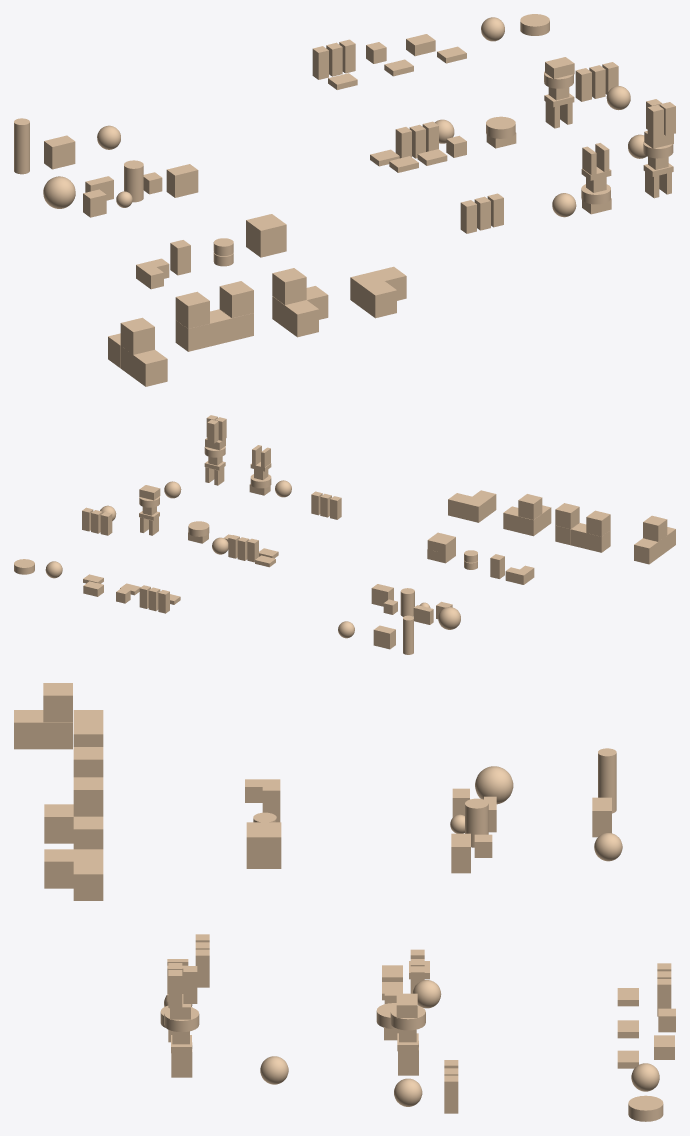
3 renders of one model, top to bottom at view 1: azimuth 30°, elevation 25°; view 2: azimuth 150°, elevation 25°; view 3: azimuth 270°, elevation 25°, orthographic. The views are drawn at different scales.
Parts seen in each view (by area): view 1: pCube23, pCube17, pCube18, pCube22, pCube27, pCube29, pCube25, pCube2, pCube1, pCylinder1, pSphere2, pCube19 (+8 smaller); view 2: pCube23, pCube18, pCube22, pCube30, pCube27, pCube15, pCube1, pSphere2, pCylinder1, pCube19, pCube24, pCube2 (+2 smaller); view 3: pCube27, pCube28, pCube17, pCube18, pCube25, pCube29, pSphere2, pCube26, pCylinder1, pCube23, pCylinder2, pCube16 (+8 smaller).
Part boxes in pixels (left/top/right/bottom): pCube23: left=219, top=281, right=253, bottom=318; pCube17: left=133, top=350, right=167, bottom=386; pCube18: left=120, top=317, right=154, bottom=354; pCube22: left=175, top=291, right=209, bottom=328; pCube27: left=272, top=268, right=306, bottom=304; pCube29: left=362, top=281, right=396, bottom=318; pCube25: left=285, top=300, right=318, bottom=337; pCube2: left=166, top=164, right=198, bottom=197; pCube1: left=44, top=135, right=75, bottom=169; pCylinder1: left=14, top=118, right=29, bottom=174; pSphere2: left=43, top=176, right=75, bottom=208; pCube19: left=175, top=320, right=209, bottom=351; pCube23: left=555, top=503, right=579, bottom=528; pCube18: left=643, top=515, right=667, bottom=541; pCube22: left=586, top=510, right=610, bottom=536; pCube30: left=463, top=496, right=487, bottom=522; pCube27: left=518, top=494, right=542, bottom=519; pCube15: left=634, top=538, right=658, bottom=564; pCube1: left=373, top=625, right=395, bottom=649; pSphere2: left=438, top=607, right=460, bottom=629; pCylinder1: left=403, top=615, right=413, bottom=654; pCube19: left=586, top=530, right=610, bottom=552; pCube24: left=518, top=514, right=542, bottom=536; pCube2: left=371, top=584, right=393, bottom=606; pCube27: left=73, top=777, right=103, bottom=816; pCube28: left=73, top=861, right=103, bottom=900; pCube17: left=14, top=710, right=43, bottom=749; pCube18: left=43, top=683, right=72, bottom=722; pCube25: left=44, top=804, right=73, bottom=843; pCube29: left=44, top=849, right=73, bottom=888; pSphere2: left=475, top=766, right=513, bottom=804; pCube26: left=73, top=816, right=103, bottom=849; pCylinder1: left=598, top=748, right=616, bottom=813; pCube23: left=73, top=747, right=103, bottom=777; pCylinder2: left=465, top=798, right=488, bottom=847; pCube16: left=43, top=722, right=72, bottom=749.
Size of the model in its own units: 12.94 by 1.65 by 9.4.
